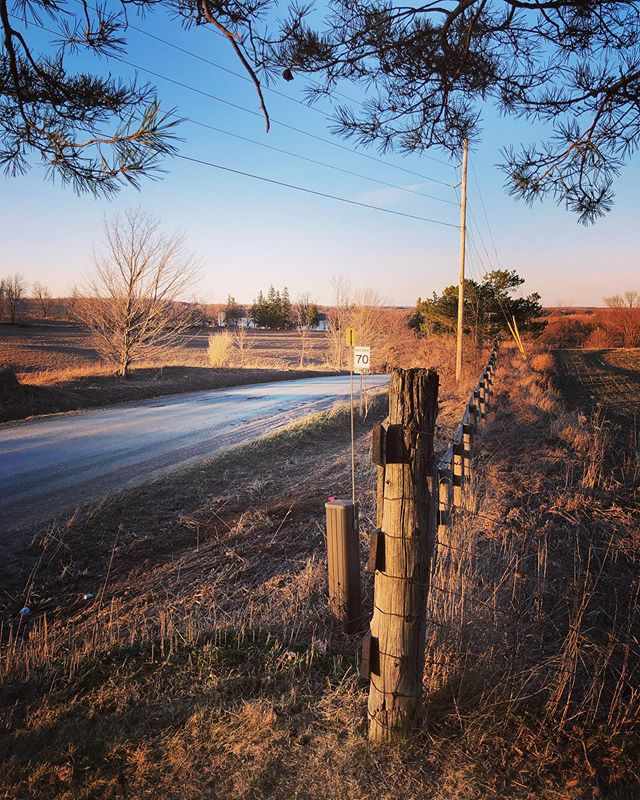road: (1, 368, 384, 558)
sky: (64, 30, 621, 288)
tree: (1, 1, 599, 207), (59, 226, 199, 381), (412, 265, 543, 354)
